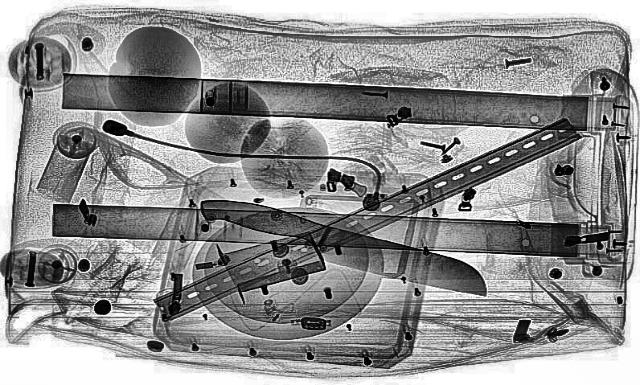Knife: (182, 188, 508, 304)
